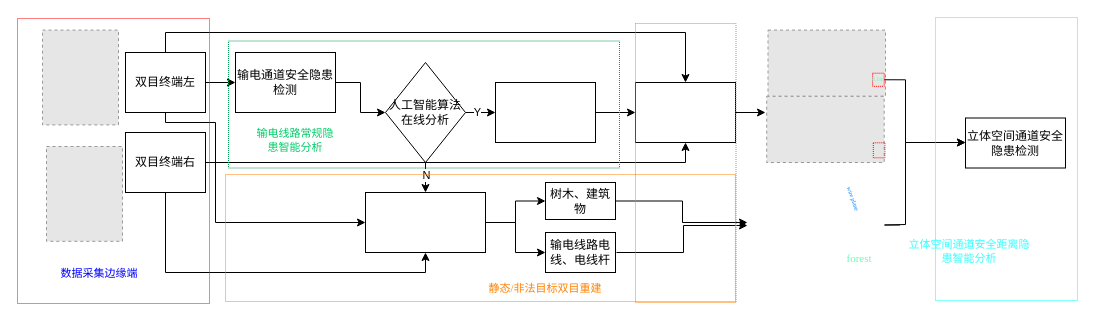
Some shapes in this 1095 by 322 pixel diagram are drawn without their labels. Grey dashed boxes stand in for pictures. Each missing label, with the box of its shape:
动态目标区域三维重建: (634, 82, 736, 142)
特种车辆定位识别: (494, 82, 596, 142)
静态目标重建: (364, 192, 486, 252)
